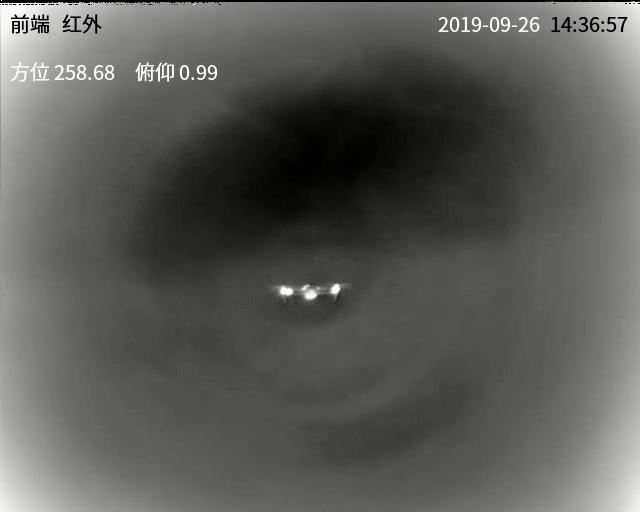DRONE: (279, 280, 342, 306)
